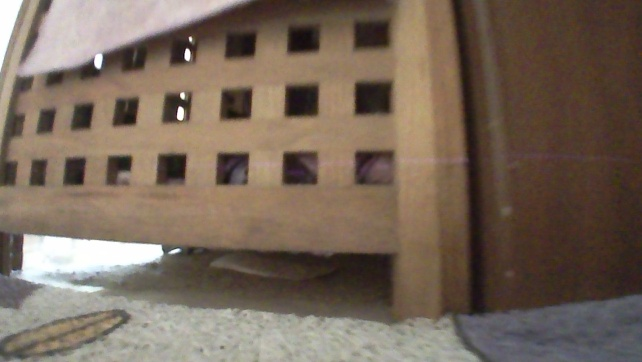blanket: (0, 242, 641, 361)
